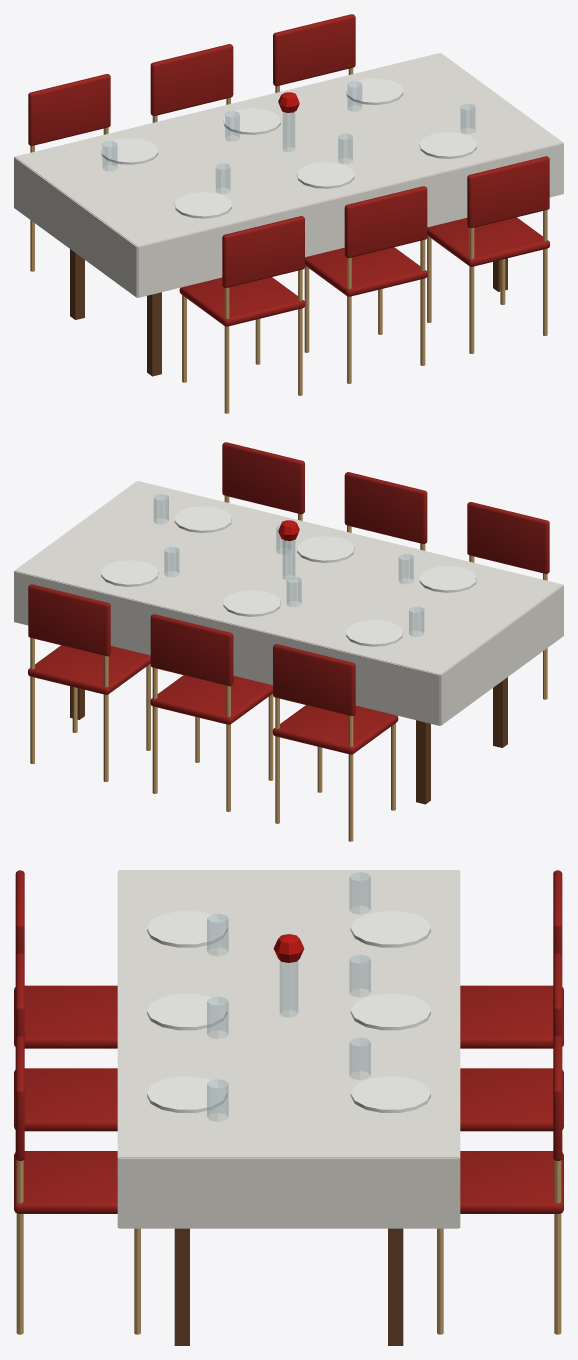
Rendered from hospitality.restaurant.laid_table_6.glb.
The picture shows the model from 3 angles, top to bottom: view 1: azimuth 30°, elevation 25°; view 2: azimuth 150°, elevation 25°; view 3: azimuth 270°, elevation 25°; orthographic projection. The views are drawn at different scales.
Parts seen in each view (by area): view 1: table__fabric_white, chairs__fabric_red, setting__ceramic, chairs__glulam, setting__glass, table__hardwood; view 2: table__fabric_white, chairs__fabric_red, setting__ceramic, chairs__glulam, setting__glass, table__hardwood; view 3: table__fabric_white, chairs__fabric_red, setting__ceramic, setting__glass, chairs__glulam, table__hardwood, setting__plastic_red.
Boxes of the visible parts, <box> form: table__fabric_white: <box>14,53,563,297</box>; chairs__fabric_red: <box>28,14,549,326</box>; setting__ceramic: <box>101,78,476,218</box>; chairs__glulam: <box>30,67,547,413</box>; setting__glass: <box>102,81,475,193</box>; table__hardwood: <box>70,249,507,376</box>; table__fabric_white: <box>14,481,563,725</box>; chairs__fabric_red: <box>28,442,549,754</box>; setting__ceramic: <box>101,506,476,646</box>; chairs__glulam: <box>30,495,547,841</box>; setting__glass: <box>154,494,423,636</box>; table__hardwood: <box>70,677,507,804</box>; table__fabric_white: <box>117,870,460,1228</box>; chairs__fabric_red: <box>14,870,563,1213</box>; setting__ceramic: <box>147,911,430,1112</box>; setting__glass: <box>207,872,370,1121</box>; chairs__glulam: <box>16,1160,561,1334</box>; table__hardwood: <box>174,1228,403,1345</box>; setting__plastic_red: <box>273,934,304,962</box>.
Bounding box in the file's own units: 2.21 × 1.04 × 1.78.
